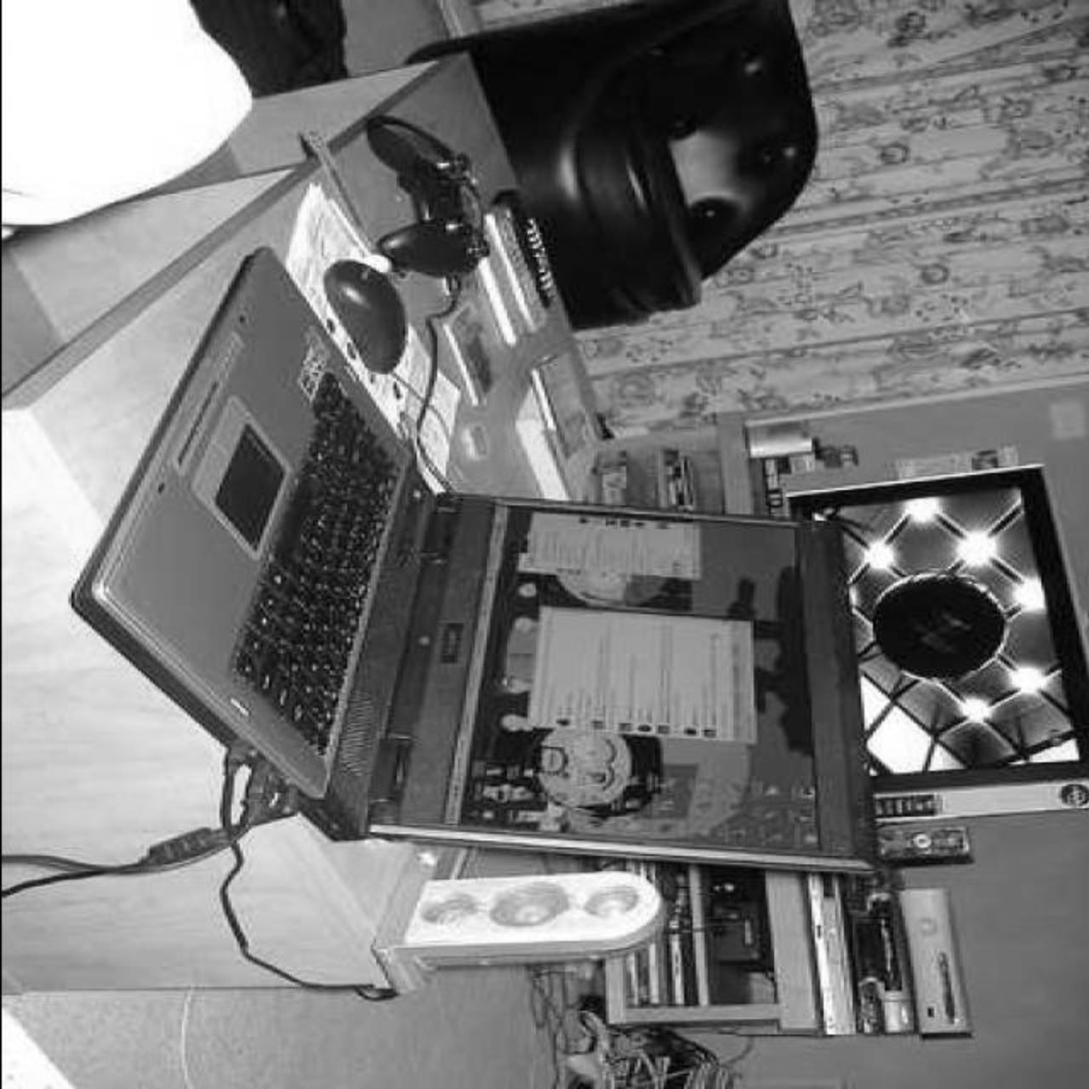laptop: (132, 237, 875, 890)
